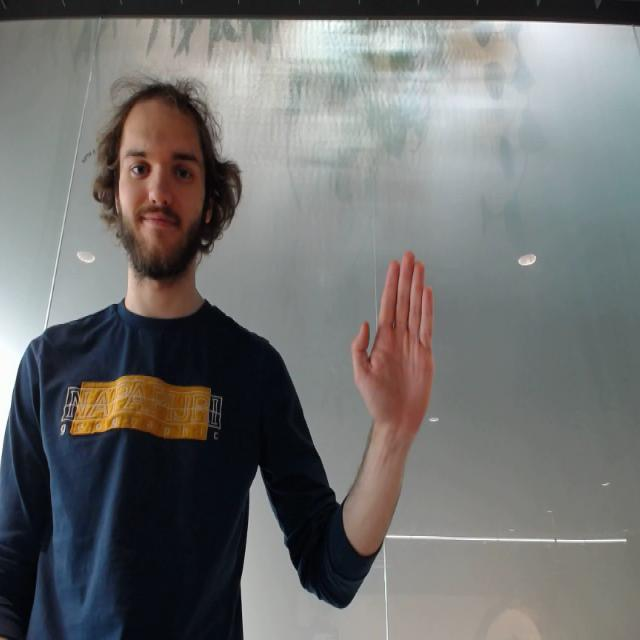backward: (350, 247, 439, 441)
